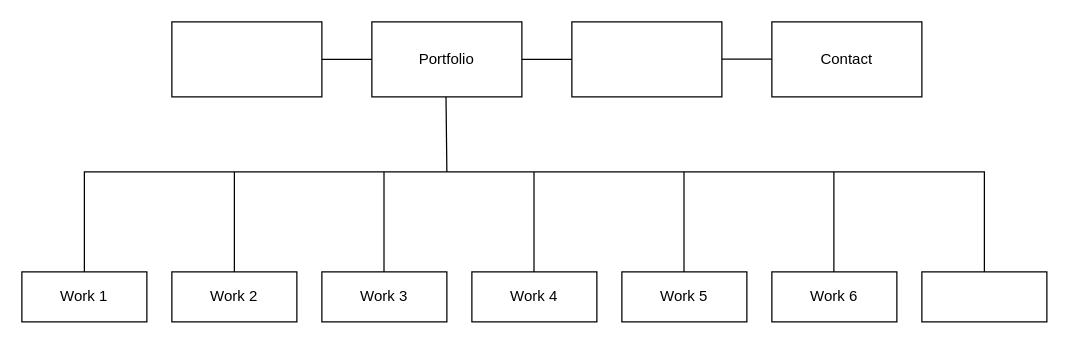
The diagram is 1069 pixels wide and 344 high, and some of its shapes have lost their labels. Here are the shapes that lost their labels. From the top down, the centre of each, then its label:
(246,59): Home
(646,59): About
(984,296): Etc.
